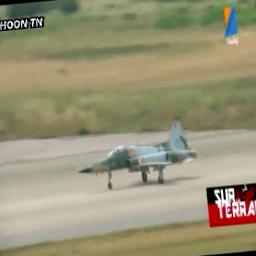Airplane: (78, 115, 199, 189)
